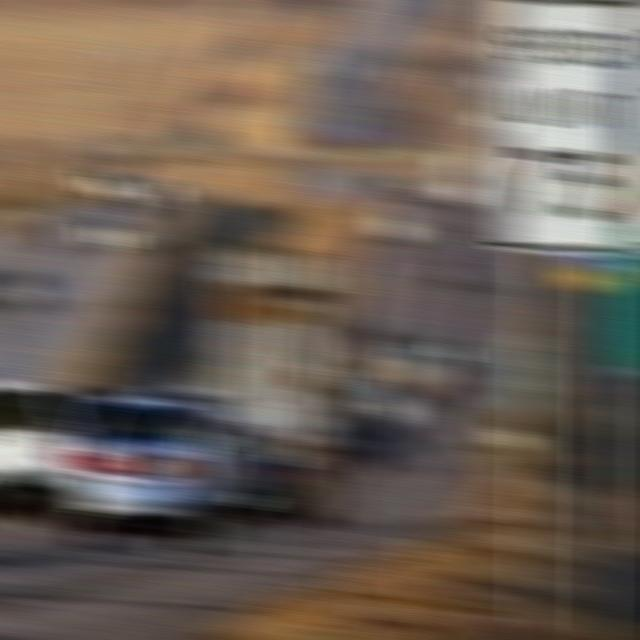speedLimit75: (497, 3, 634, 250)
